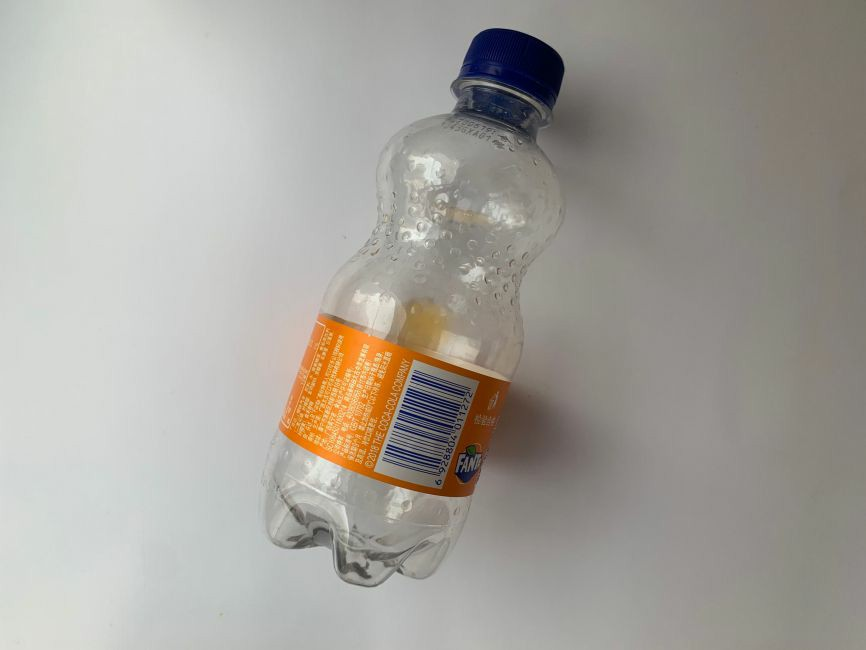bottle: (258, 24, 572, 592)
